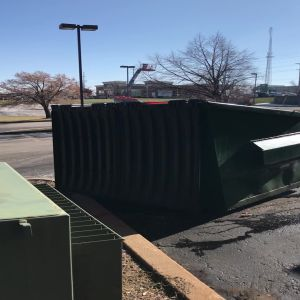Dumpster: (47, 96, 300, 212)
